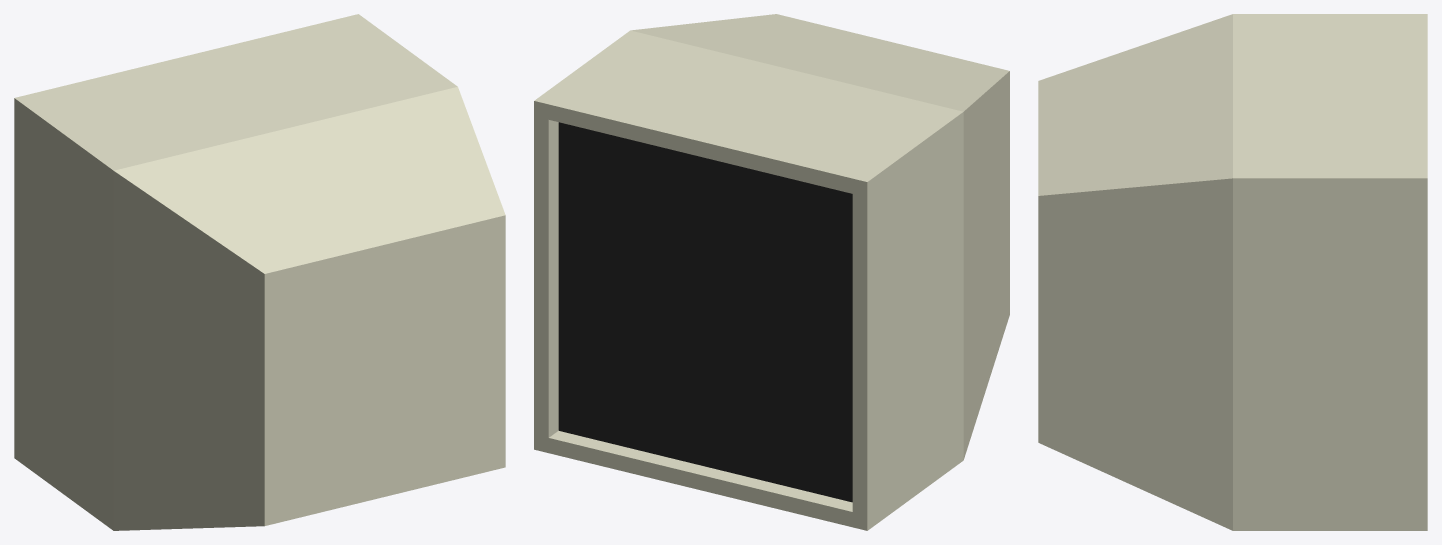
File: Head.fbx
The picture shows the model from 3 angles, left to right: view 1: azimuth 30°, elevation 25°; view 2: azimuth 150°, elevation 25°; view 3: azimuth 270°, elevation 25°; orthographic projection. The views are drawn at different scales.
Visible parts, largest first — view 1: Head; view 2: Head; view 3: Head.
Boxes of the visible parts, x1,y1,x2,y2 form: Head: (14, 14, 505, 530); Head: (534, 14, 1009, 530); Head: (1038, 14, 1427, 530).
Size of the model in its own units: 10 by 10 by 10.
